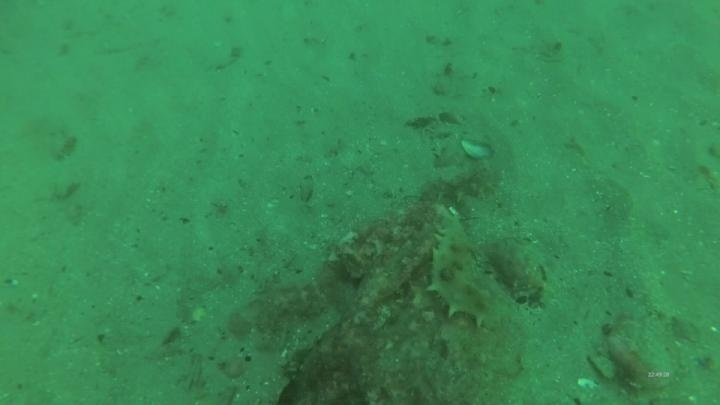holothurian: (423, 206, 501, 333), (483, 238, 550, 309), (417, 164, 504, 207)
